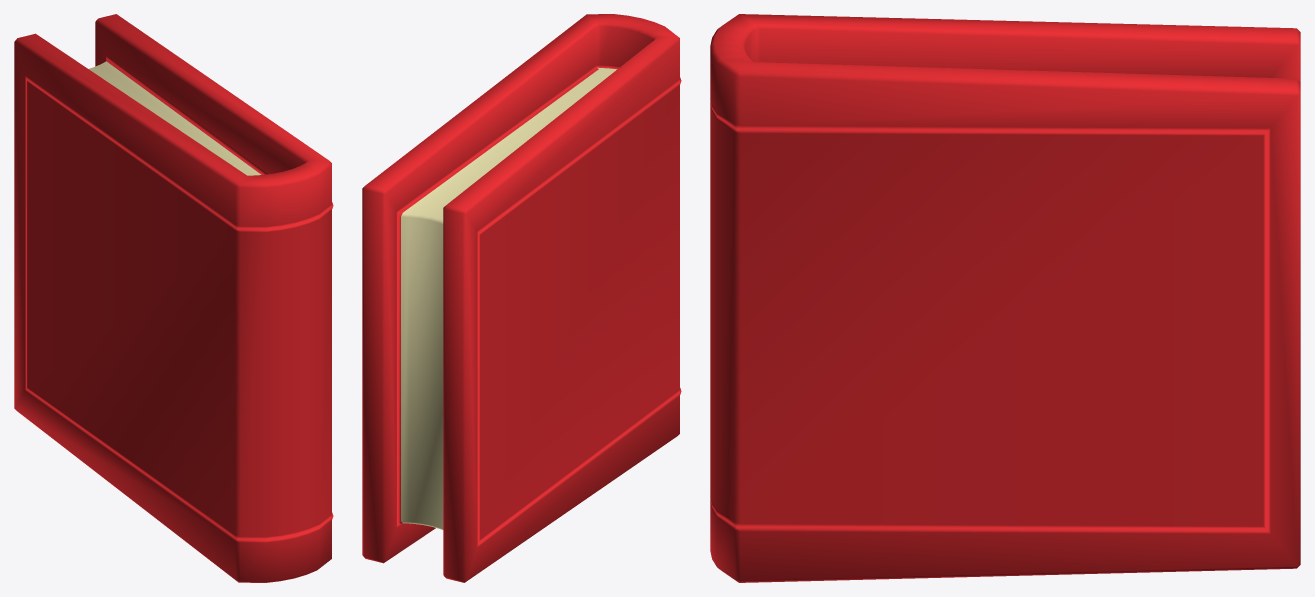
File: Book_Red.fbx
3 renders of one model, left to right at view 1: azimuth 30°, elevation 25°; view 2: azimuth 150°, elevation 25°; view 3: azimuth 270°, elevation 25°, orthographic. The views are drawn at different scales.
Parts seen in each view (by area): view 1: Book.002; view 2: Book.002; view 3: Book.002.
Boxes of the visible parts, left/top/right/bottom form: Book.002: left=14, top=14, right=333, bottom=582; Book.002: left=362, top=14, right=681, bottom=582; Book.002: left=710, top=14, right=1300, bottom=582.
Bounding box in the file's own units: 5.71 × 20.89 × 21.83.
